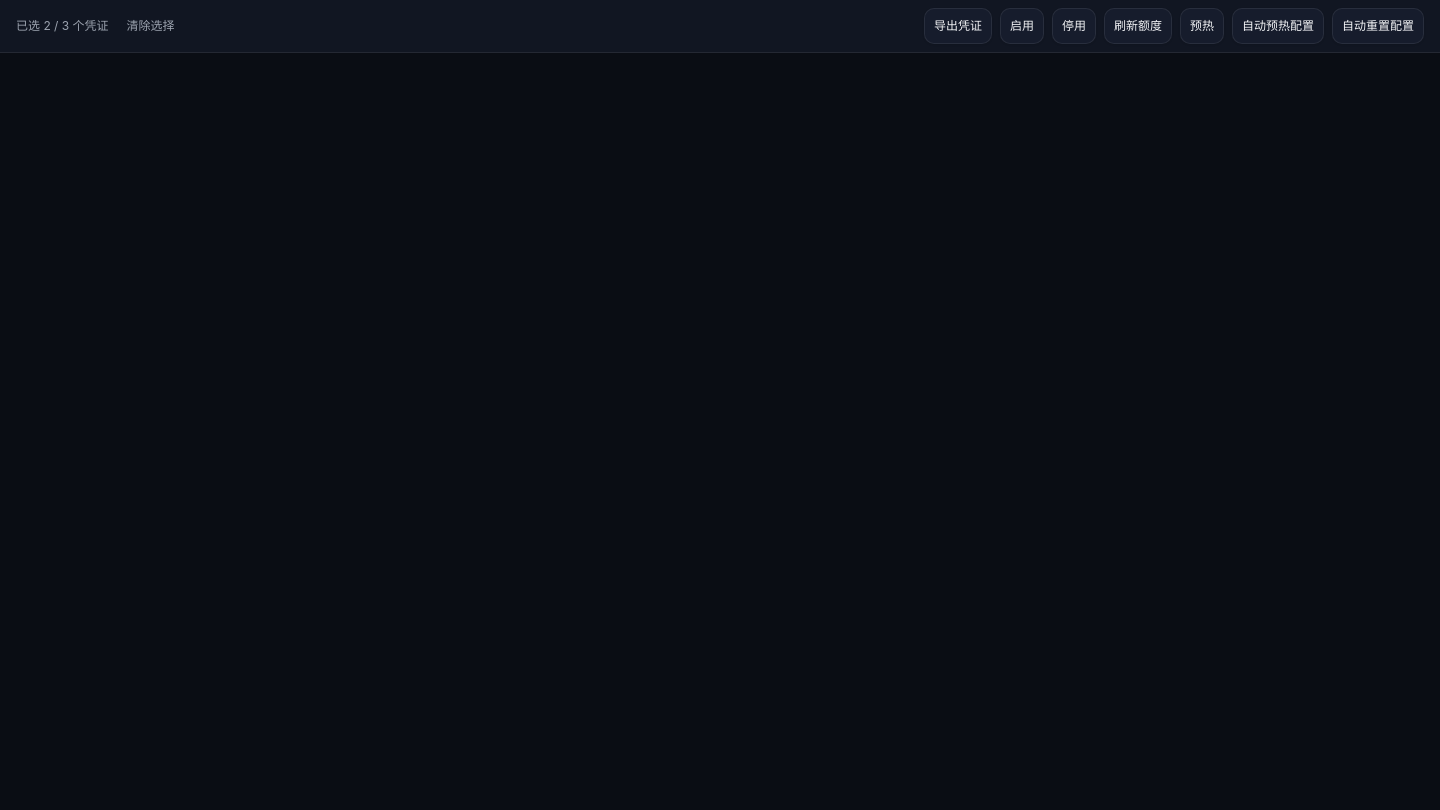
requires explicit warmup confirmation and skips missing models without guessing
Click the button "预热" at x=1202, y=26, box x1=1180 y1=8 x2=1224 y2=44
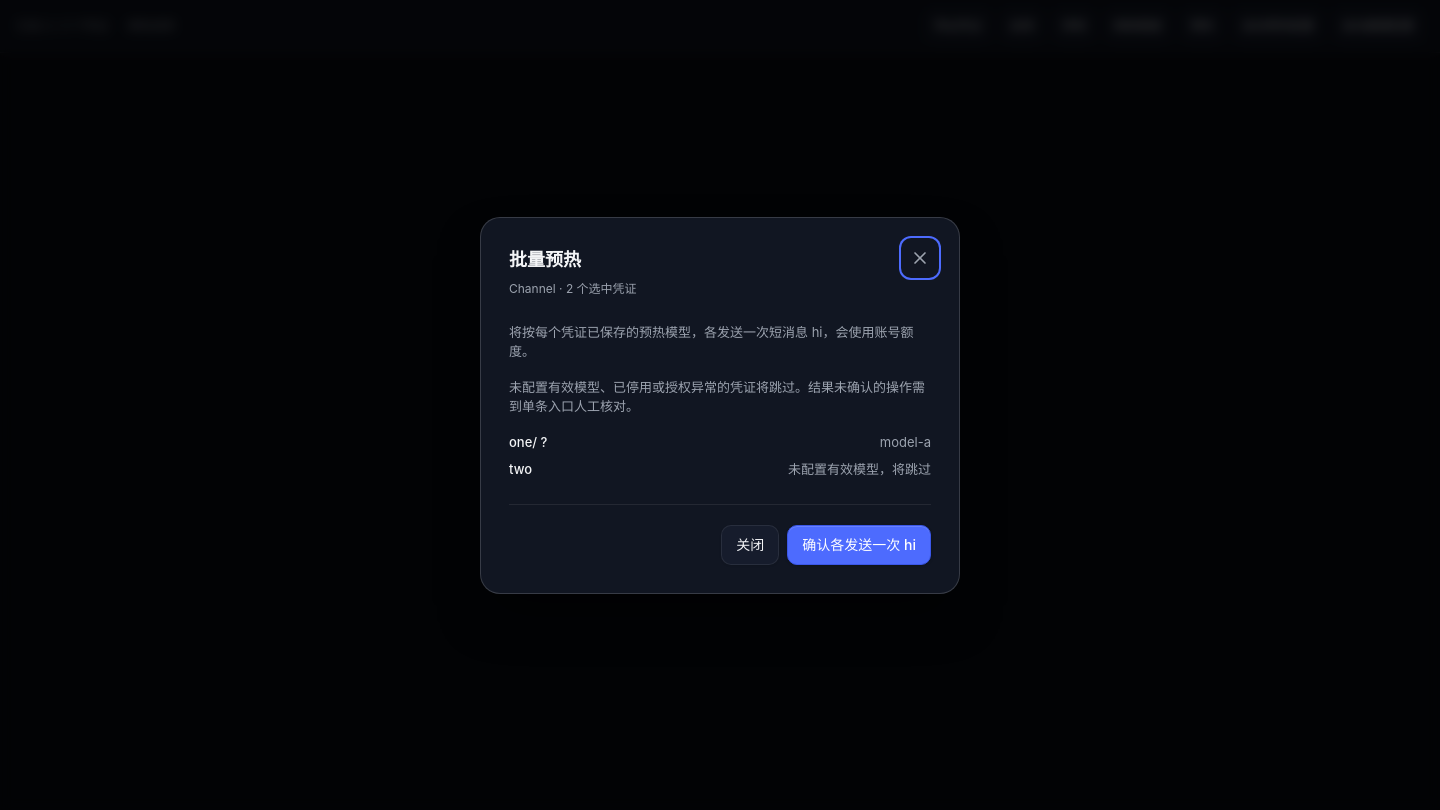
Click the button "确认各发送一次 hi" at x=859, y=544, box x1=787 y1=524 x2=931 y2=564
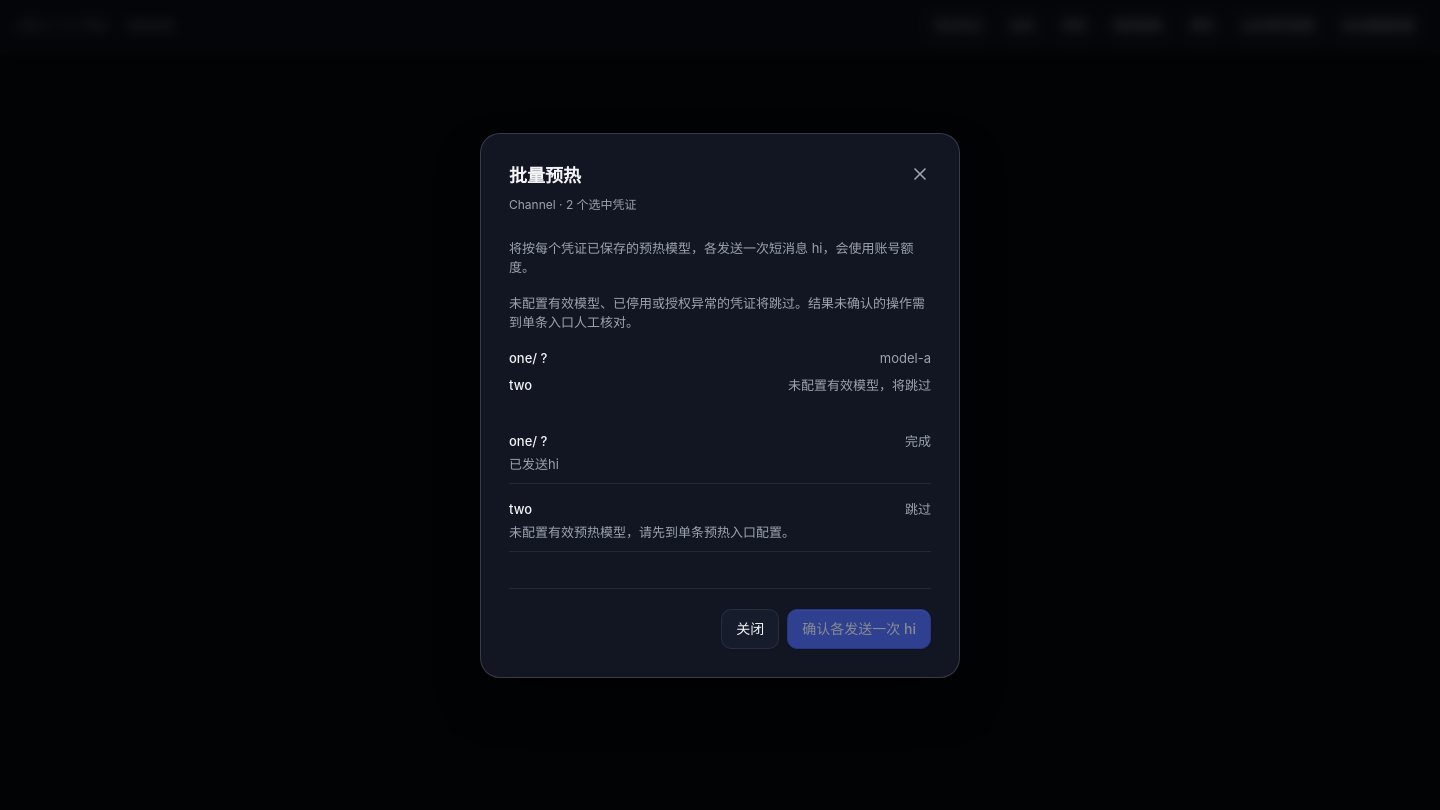
expect the text "已发送hi" is shown: met, box x1=509 y1=456 x2=559 y2=472
expect the text "未配置有效预热模型，请先到单条预热入口配置。" is shown: met, box x1=509 y1=524 x2=795 y2=540
